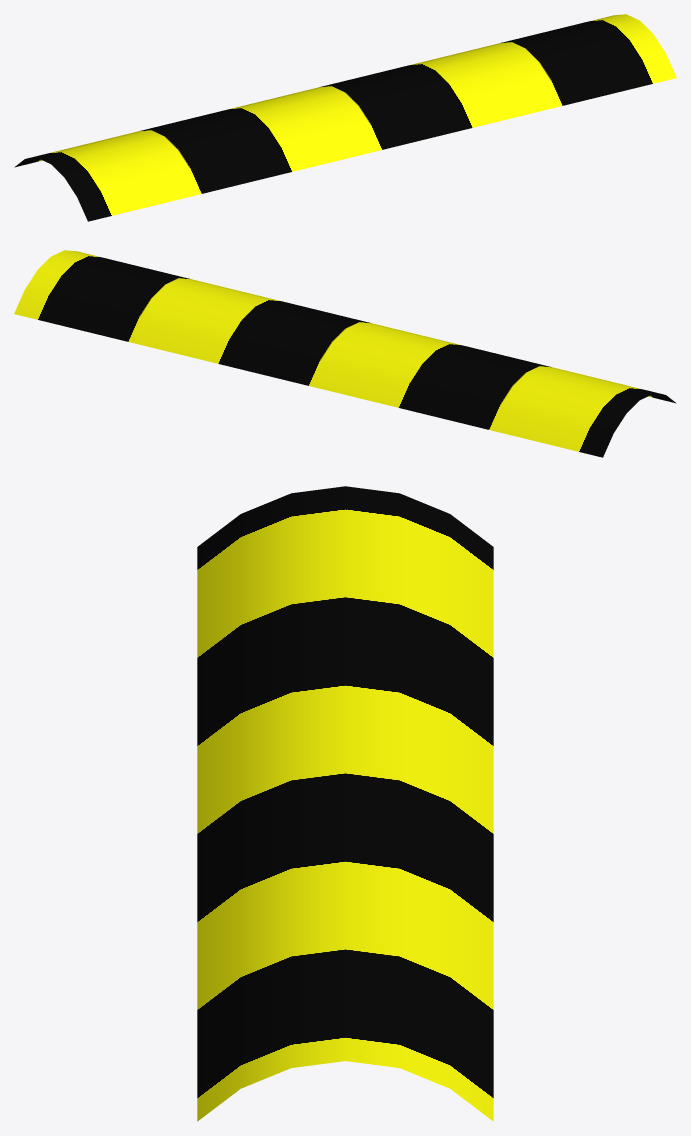
File: speed_breaker.FBX
3 views of the same model, one above another, from view 1: azimuth 30°, elevation 25°; view 2: azimuth 150°, elevation 25°; view 3: azimuth 270°, elevation 25° (orthographic). The views are drawn at different scales.
Visible parts, largest first — view 1: speed_breaker; view 2: speed_breaker; view 3: speed_breaker.
Boxes of the visible parts, box(x1,y1,x2,y2) form: speed_breaker: box(14, 14, 676, 221); speed_breaker: box(14, 250, 676, 457); speed_breaker: box(197, 486, 493, 1121).
Bounding box in the file's own units: 334 × 16.44 × 72.76.
